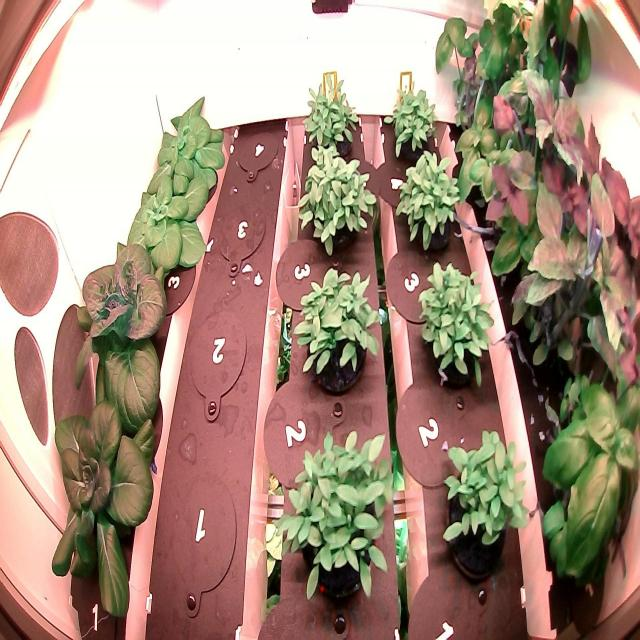empty_pod: (158, 462, 243, 622), (182, 298, 255, 427), (206, 183, 270, 282), (230, 116, 280, 186)
young: (41, 363, 163, 627), (67, 224, 178, 475), (123, 170, 213, 271), (142, 94, 227, 196)
